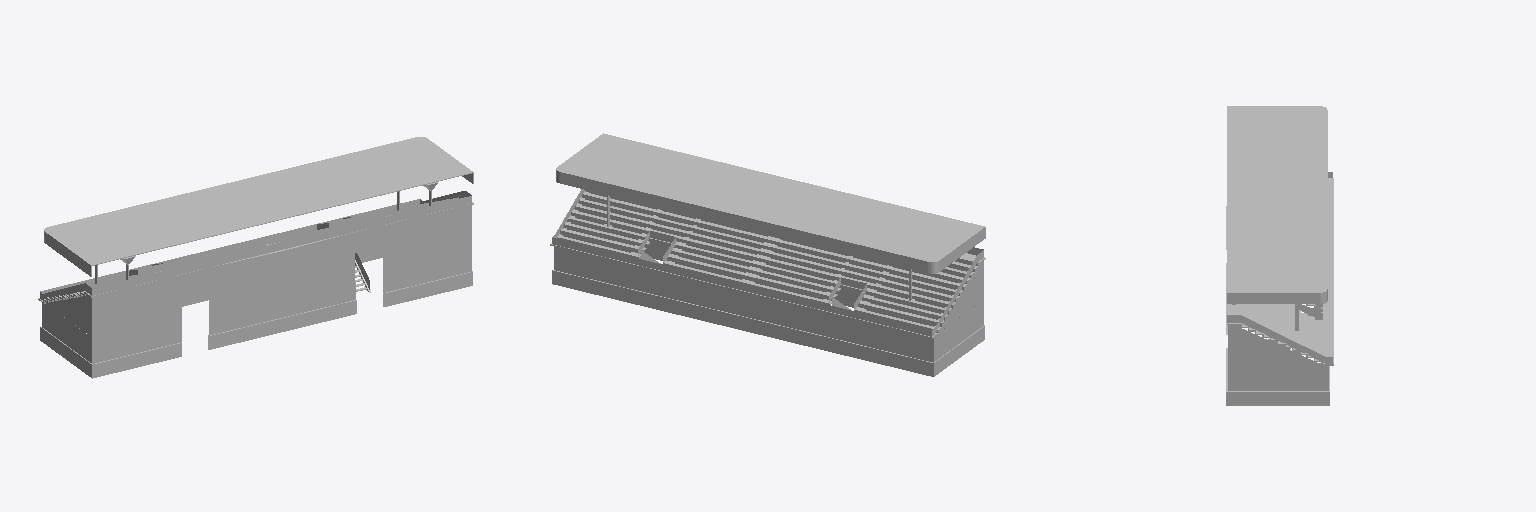
The model's file is GrandStand-09-m.obj.
The picture shows the model from 3 angles: view 1: azimuth 30°, elevation 25°; view 2: azimuth 150°, elevation 25°; view 3: azimuth 270°, elevation 25°; orthographic projection.
Visible parts, largest first — view 1: GrandStand-09-m_GrandStand-09-m.001; view 2: GrandStand-09-m_GrandStand-09-m.001; view 3: GrandStand-09-m_GrandStand-09-m.001.
Boxes of the visible parts, x1,y1,x2,y2 form: GrandStand-09-m_GrandStand-09-m.001: [38, 137, 473, 378]; GrandStand-09-m_GrandStand-09-m.001: [550, 133, 985, 376]; GrandStand-09-m_GrandStand-09-m.001: [1226, 106, 1333, 405].
Size of the model in its own units: 60 by 16.94 by 14.59.